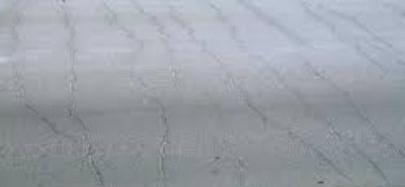alligator-crack: (10, 9, 393, 179)
